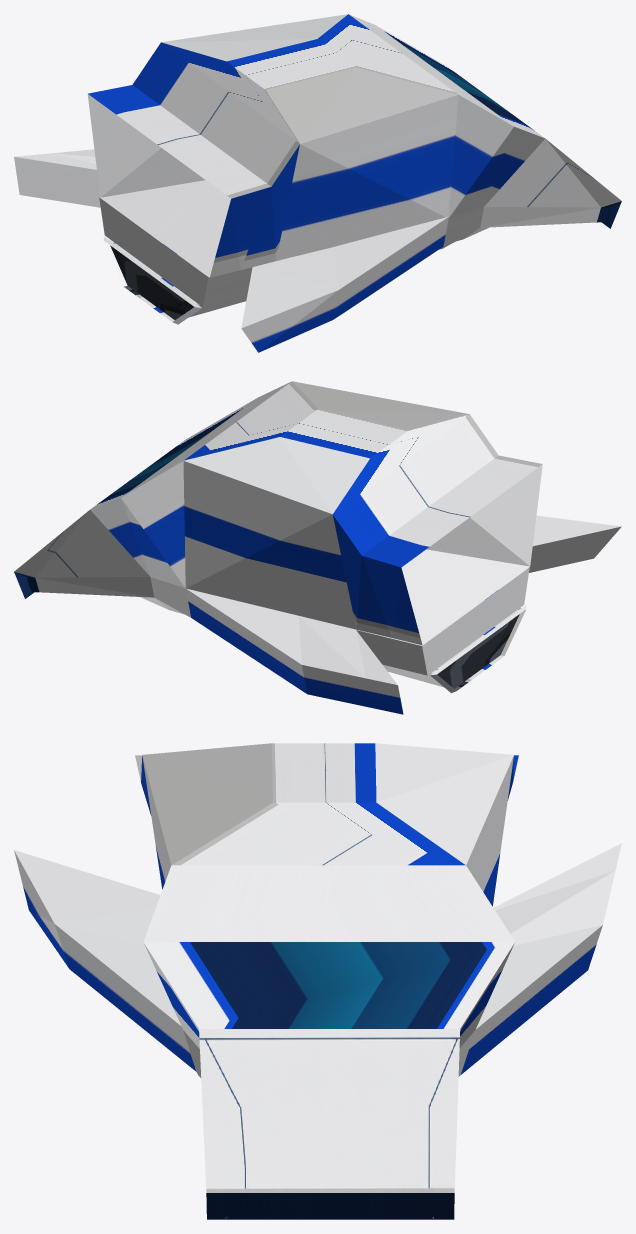
File: nave.obj
The picture shows the model from 3 angles, top to bottom: view 1: azimuth 30°, elevation 25°; view 2: azimuth 150°, elevation 25°; view 3: azimuth 270°, elevation 25°; orthographic projection. The views are drawn at different scales.
Parts seen in each view (by area): view 1: Cube.001; view 2: Cube.001; view 3: Cube.001.
Boxes of the visible parts, <box> form: Cube.001: <box>14,14,621,352</box>; Cube.001: <box>14,381,621,714</box>; Cube.001: <box>14,743,621,1219</box>.
Bounding box in the file's own units: 4.21 × 1.86 × 3.66.
1 material, 1 textured.
